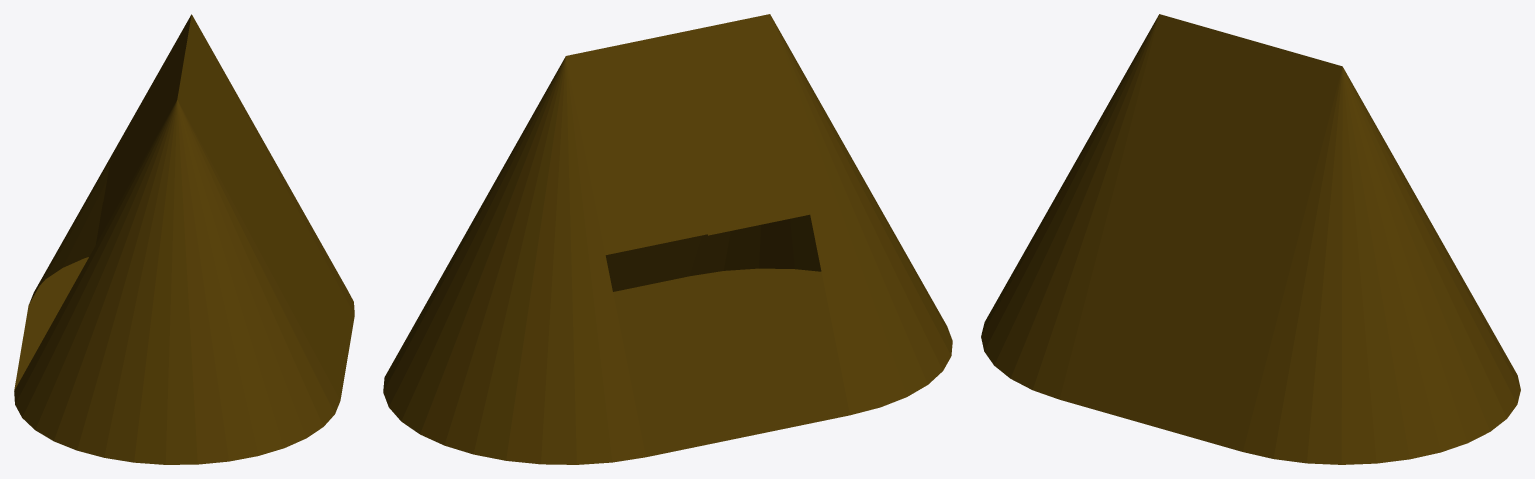
File: Палатка.fbx
3 renders of one model, left to right at view 1: azimuth 30°, elevation 25°; view 2: azimuth 150°, elevation 25°; view 3: azimuth 270°, elevation 25°, orthographic. The views are drawn at different scales.
Visible parts, largest first — view 1: Палатка; view 2: Палатка; view 3: Палатка.
Boxes of the visible parts, x1,y1,x2,y2 form: Палатка: [14, 14, 354, 464]; Палатка: [383, 14, 952, 464]; Палатка: [981, 14, 1520, 464].
Bounding box in the file's own units: 1198 × 889 × 1347.
